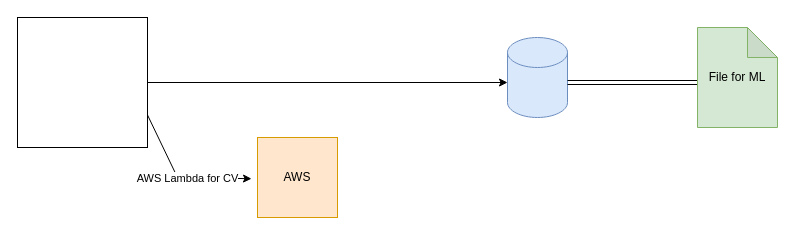
The diagram is 795 pixels wide and 235 high, and some of its shapes have lost their labels. The shapes that lost their labels are listed below. From the top down, each one's centre as x and y in pixels, then its label:
At pixel 82 82: "FastApi User Authentification (registration)".
At pixel 537 77: "User Info DynamoDB".
